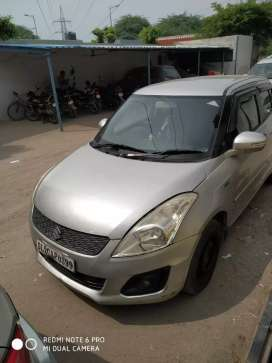nameplate: (35, 238, 74, 275)
